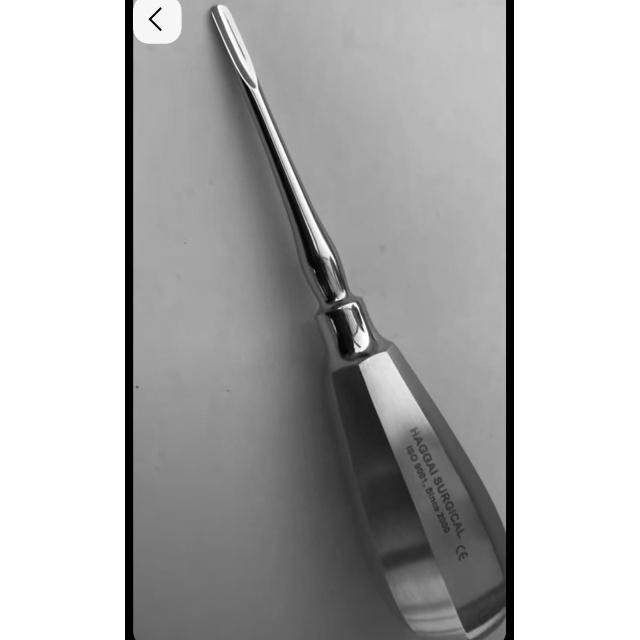botador: (204, 4, 509, 639)
